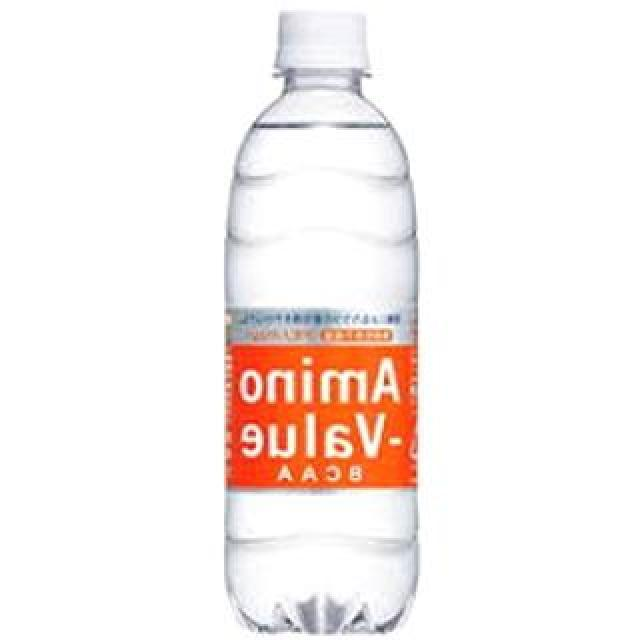Pet_Bottle: (218, 0, 430, 640)
